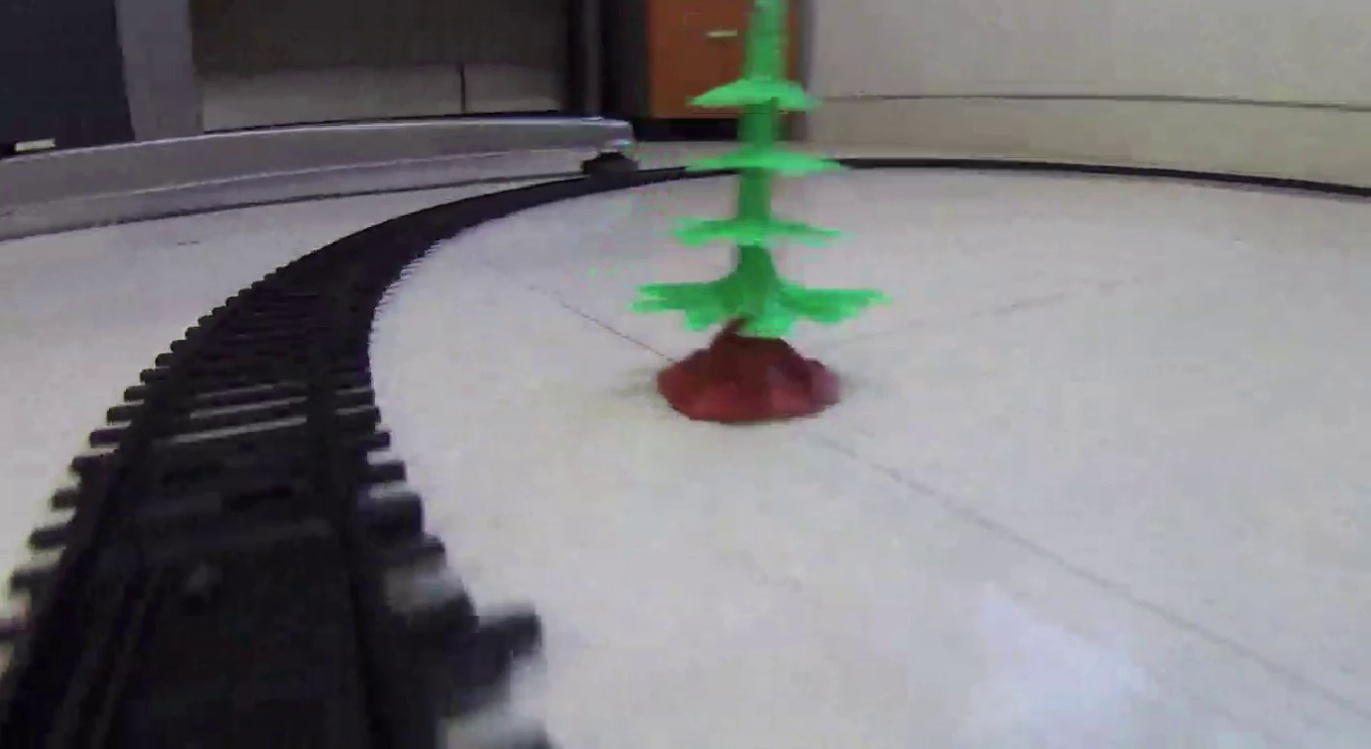tree: (630, 1, 892, 426)
